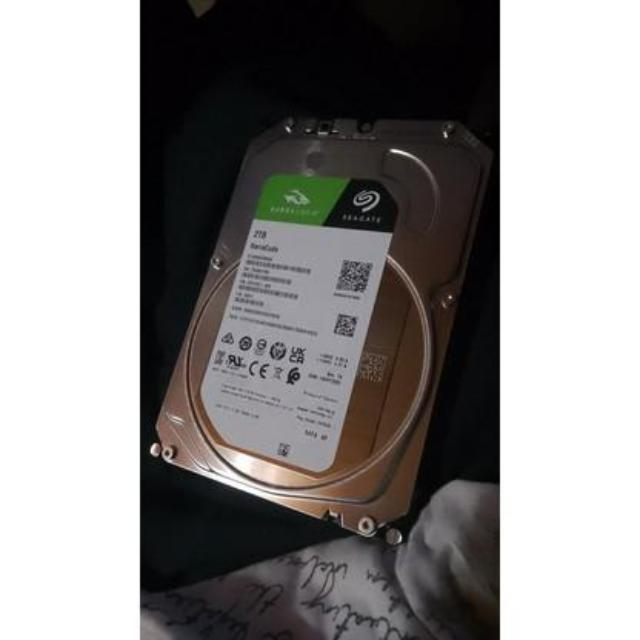DISK: (154, 121, 492, 536)
